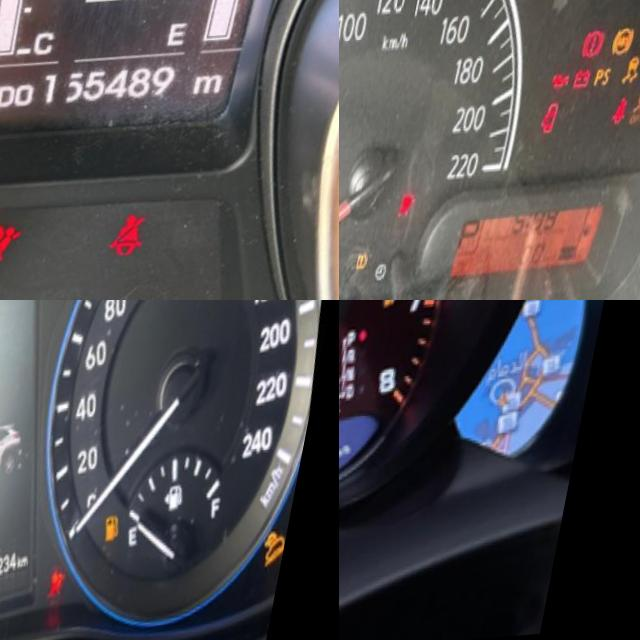Seat Belt: (122, 218, 172, 267)
